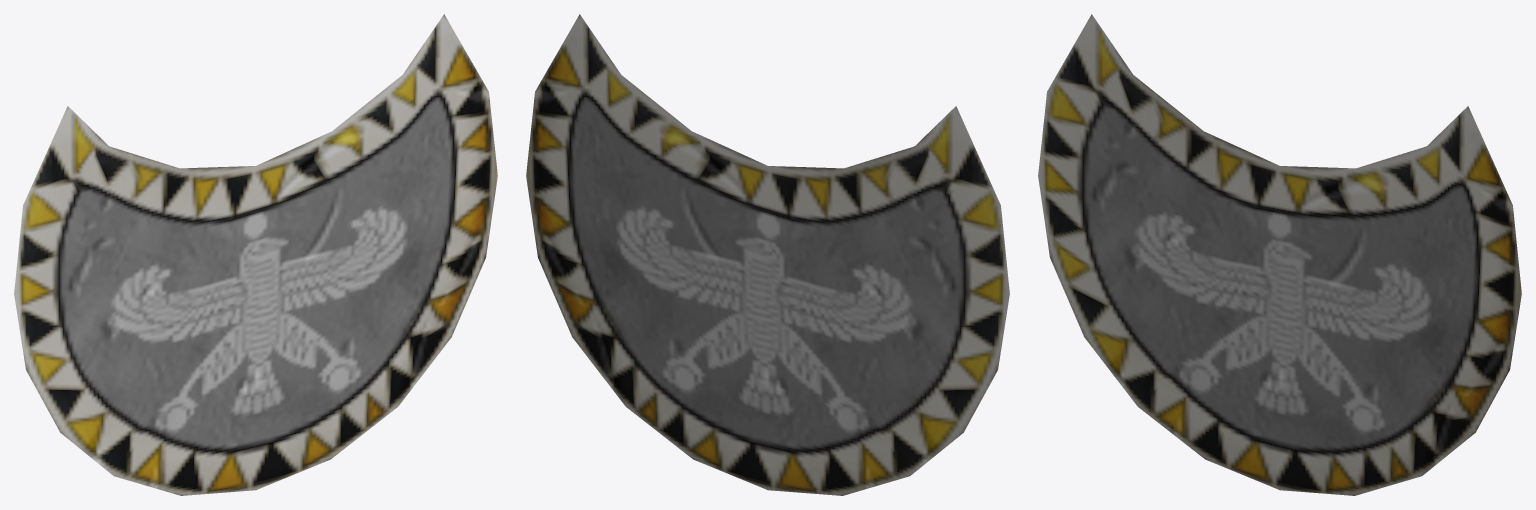
The model's file is taka_back.dae.
3 views of the same model, side by side, from view 1: azimuth 30°, elevation 25°; view 2: azimuth 150°, elevation 25°; view 3: azimuth 330°, elevation 25° (orthographic).
Visible parts, largest first — view 1: taka_back; view 2: taka_back; view 3: taka_back.
Part boxes in pixels (<box>): taka_back: <box>14,14,497,495</box>; taka_back: <box>526,14,1009,495</box>; taka_back: <box>1038,14,1521,495</box>.
Bounding box in the file's own units: 1.58 × 1.34 × 0.
